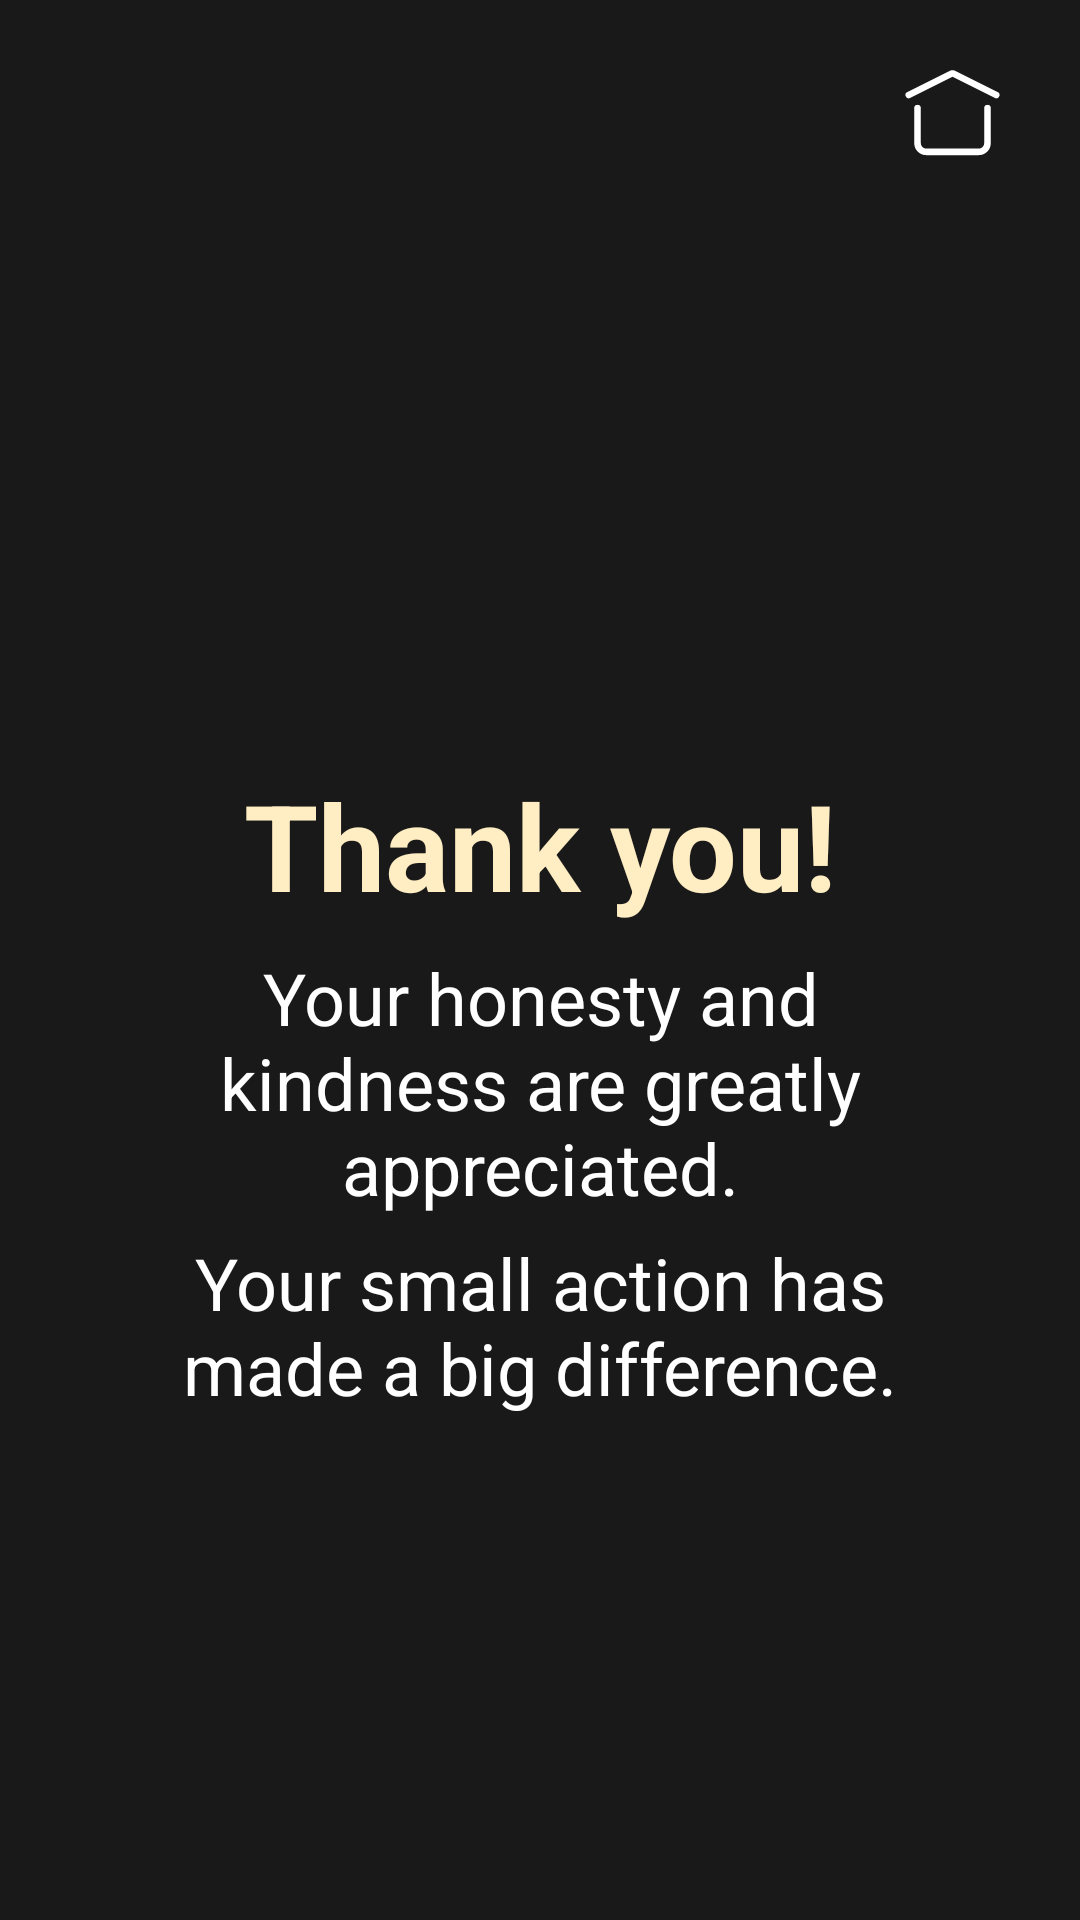

Where icons sit on this 1080px×1920px app screen, as [x1, y1, x2, y2]:
home: [905, 70, 1000, 156]
